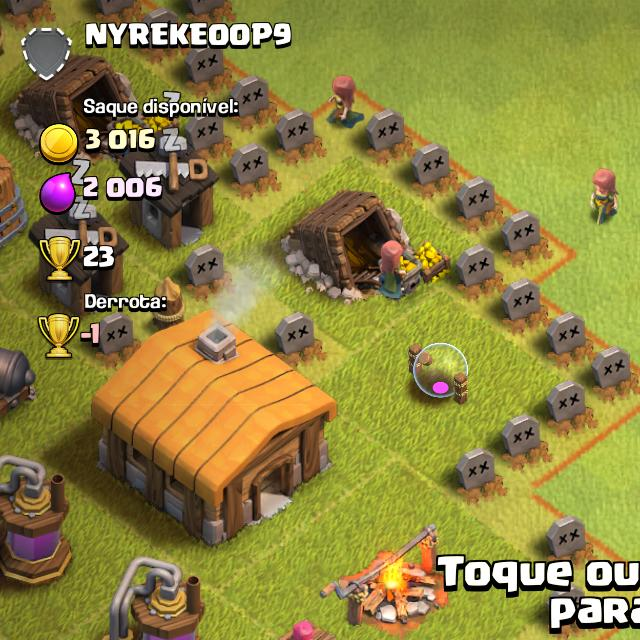ValueCoin: (84, 124, 169, 158)
ValueElixir: (78, 170, 175, 209)
